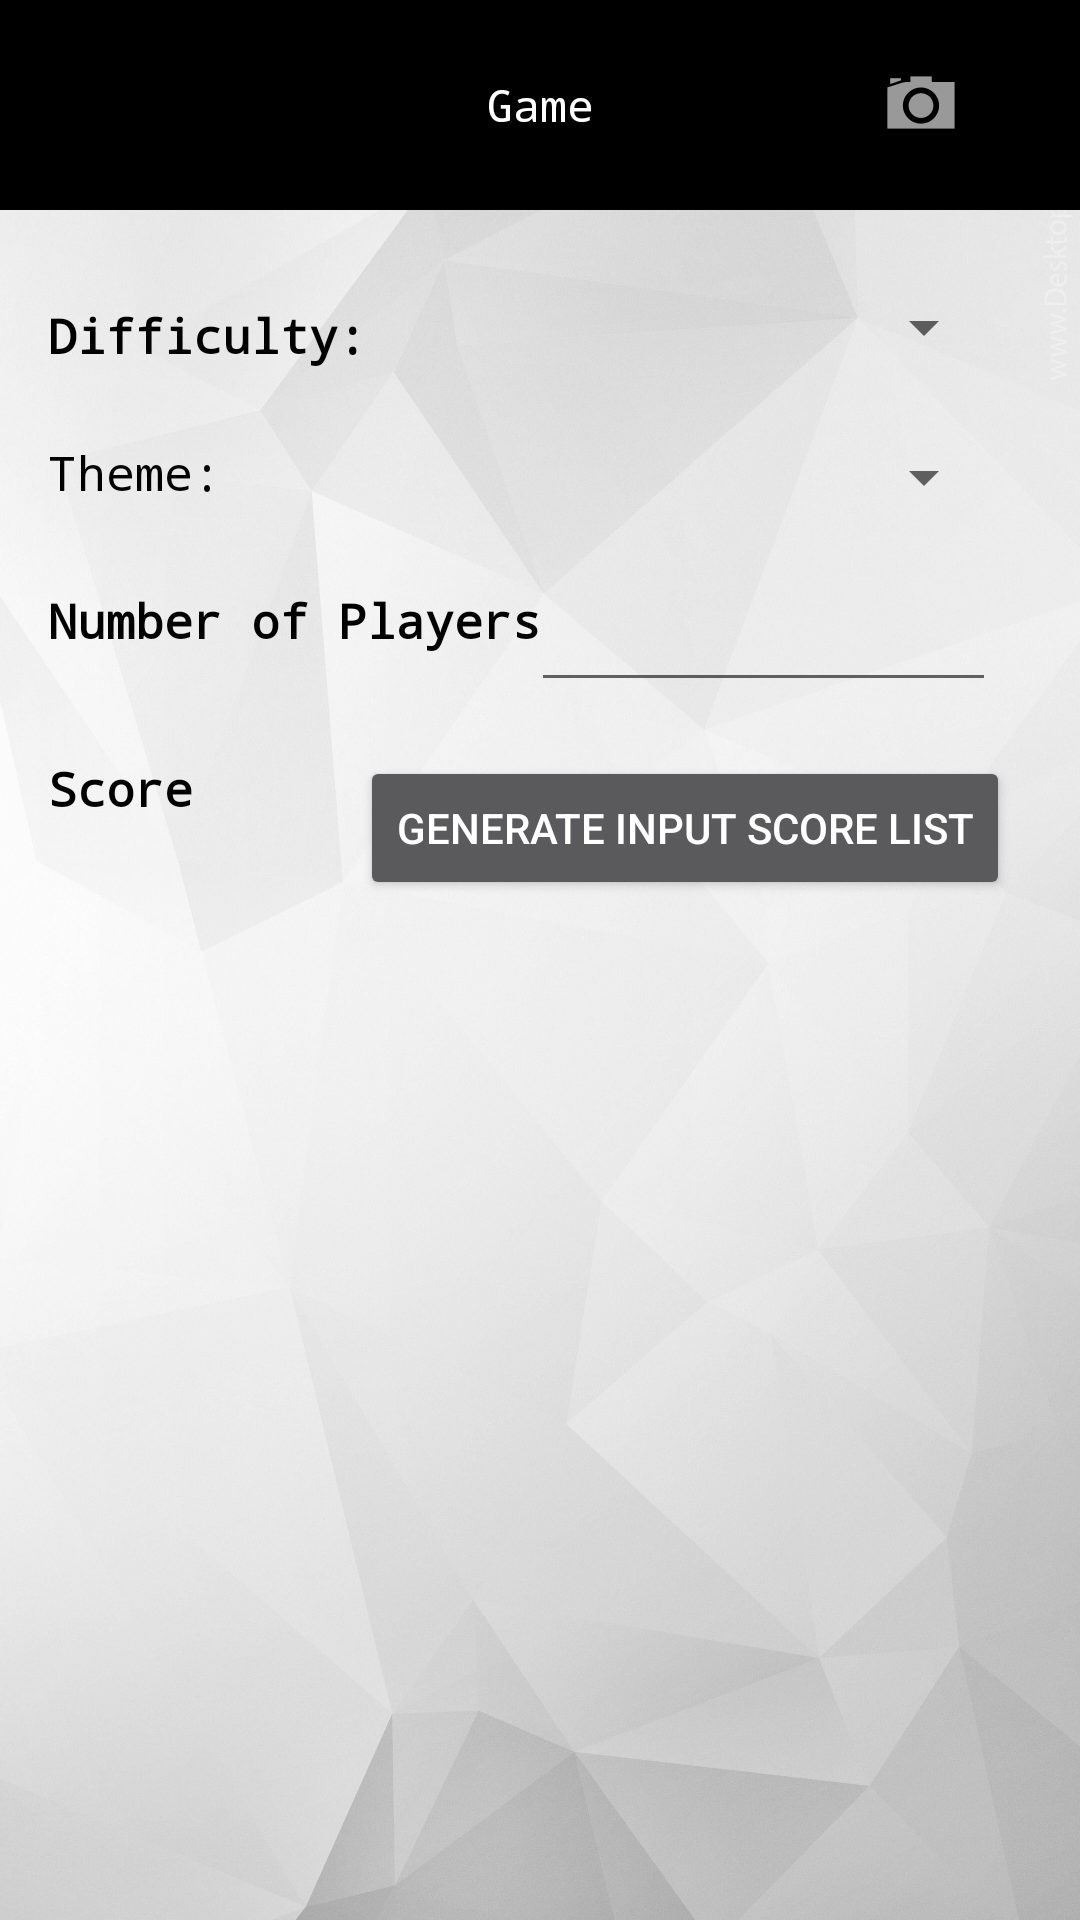

Icons on this 1080x1920 Android screen, each with its box as (x1, y1, x2, y2):
camera: (887, 76, 955, 129)
